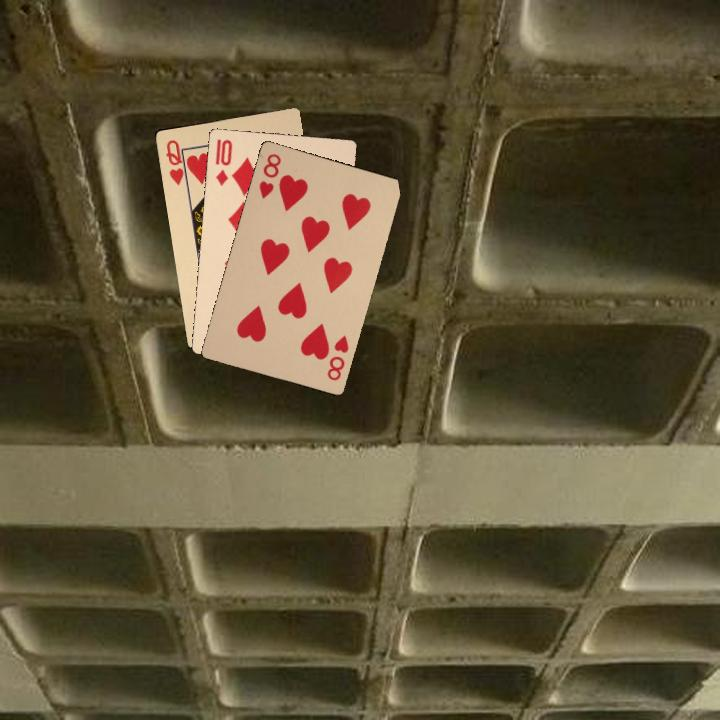10d: (211, 135, 235, 188)
8h: (255, 149, 283, 201), (323, 332, 351, 383)
Qh: (162, 136, 191, 188)
